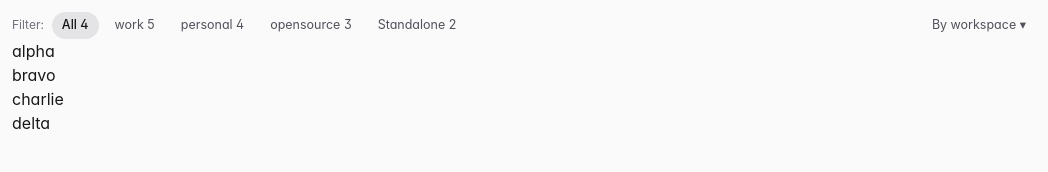
Test: FilterChips — chip row › Standalone chip filters to standalone-only
Click the button with test id "filter-chip-standalone": (417, 25) [368,12,466,39]
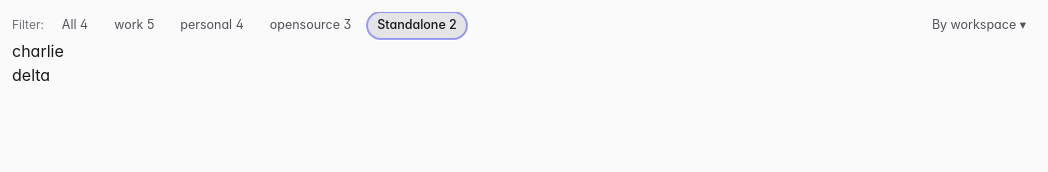
Check: the list item with test id "row-p1" is gone
Check: the list item with test id "row-p2" is gone
